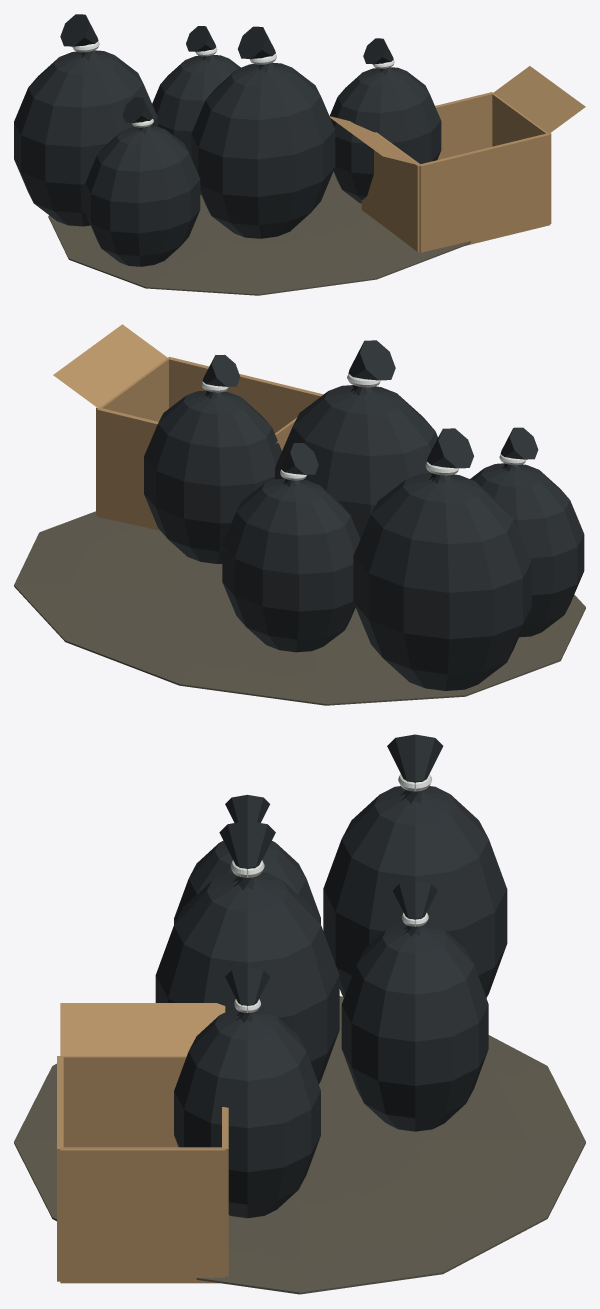
File: CLN_TRASH_PILE_MEDIUM_01.fbx
3 renders of one model, top to bottom at view 1: azimuth 30°, elevation 25°; view 2: azimuth 150°, elevation 25°; view 3: azimuth 270°, elevation 25°, orthographic. The views are drawn at different scales.
Visible parts, largest first — view 1: CLN_TRASH_PILE_MEDIUM_01; view 2: CLN_TRASH_PILE_MEDIUM_01; view 3: CLN_TRASH_PILE_MEDIUM_01.
Boxes of the visible parts, x1,y1,x2,y2 form: CLN_TRASH_PILE_MEDIUM_01: (14, 14, 585, 295); CLN_TRASH_PILE_MEDIUM_01: (14, 324, 585, 705); CLN_TRASH_PILE_MEDIUM_01: (14, 734, 585, 1294).
Size of the model in its own units: 144 by 64.39 by 109.
